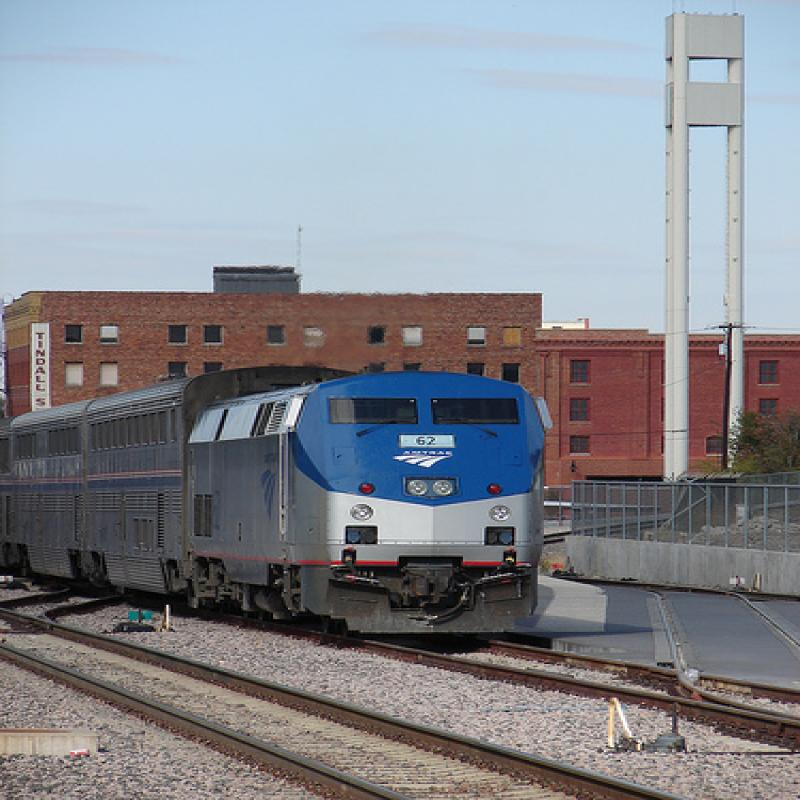train: (1, 364, 547, 636)
